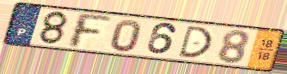0: (107, 18, 144, 54)
6: (146, 21, 178, 57)
8: (37, 9, 72, 46), (216, 28, 251, 65)
D: (176, 25, 214, 59)
F: (68, 11, 113, 50)
